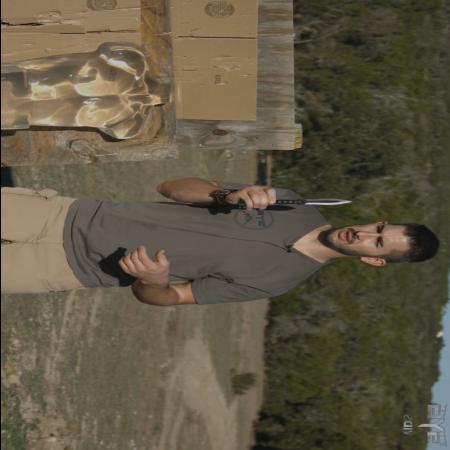long weapon: (233, 188, 360, 210)
